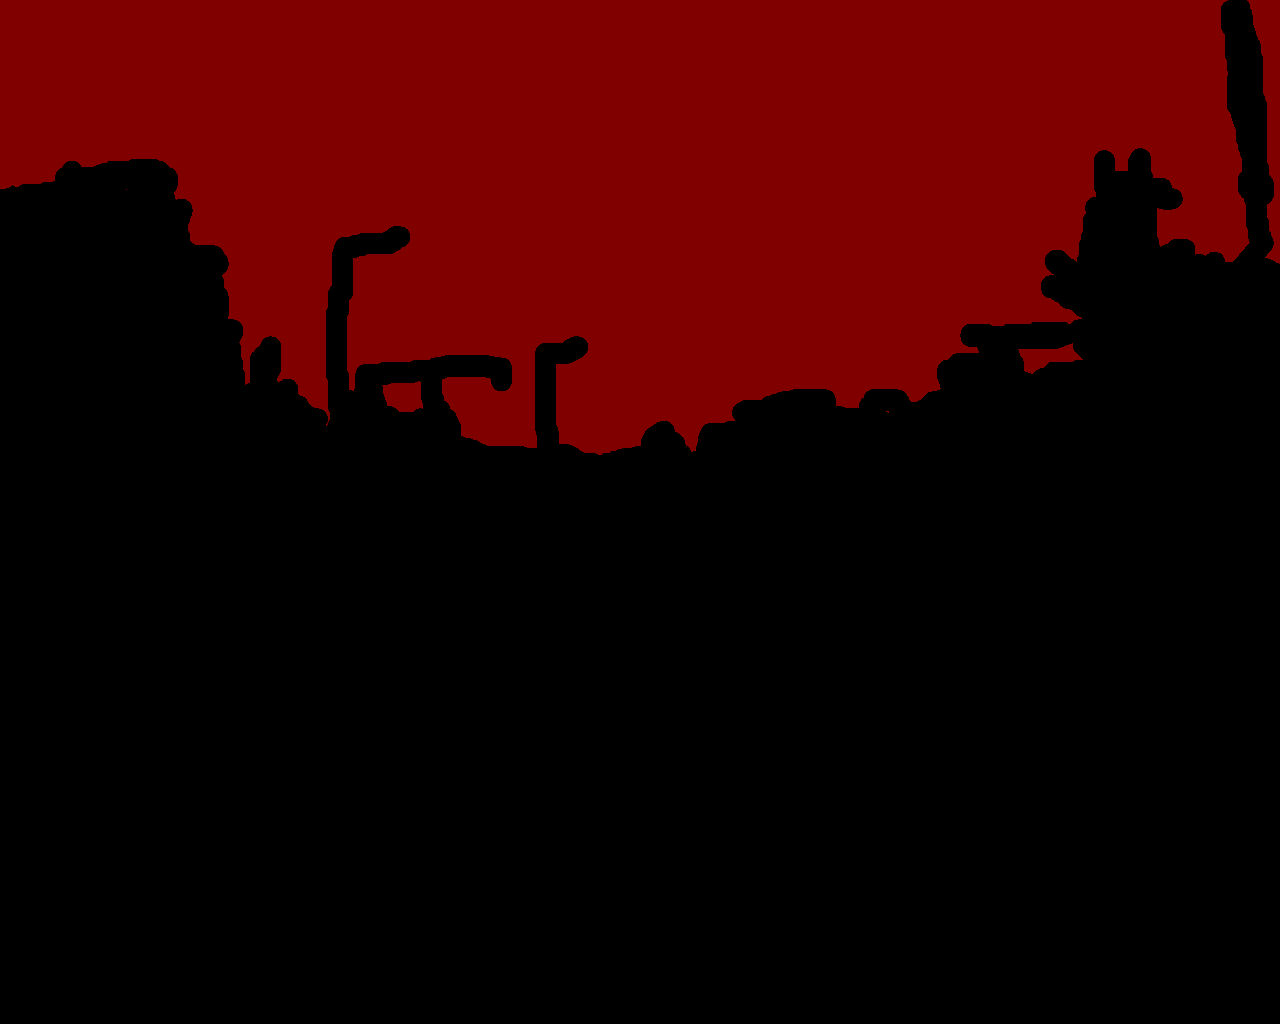Sky: (1, 1, 1279, 455)
